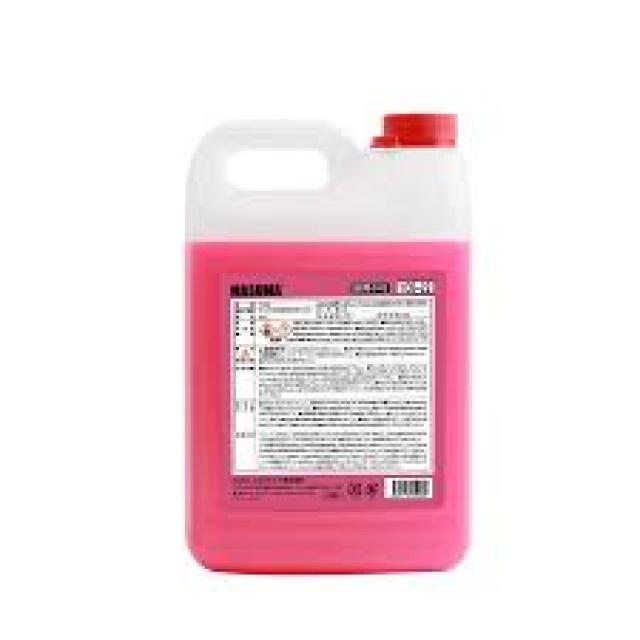coolant: (178, 106, 472, 580)
